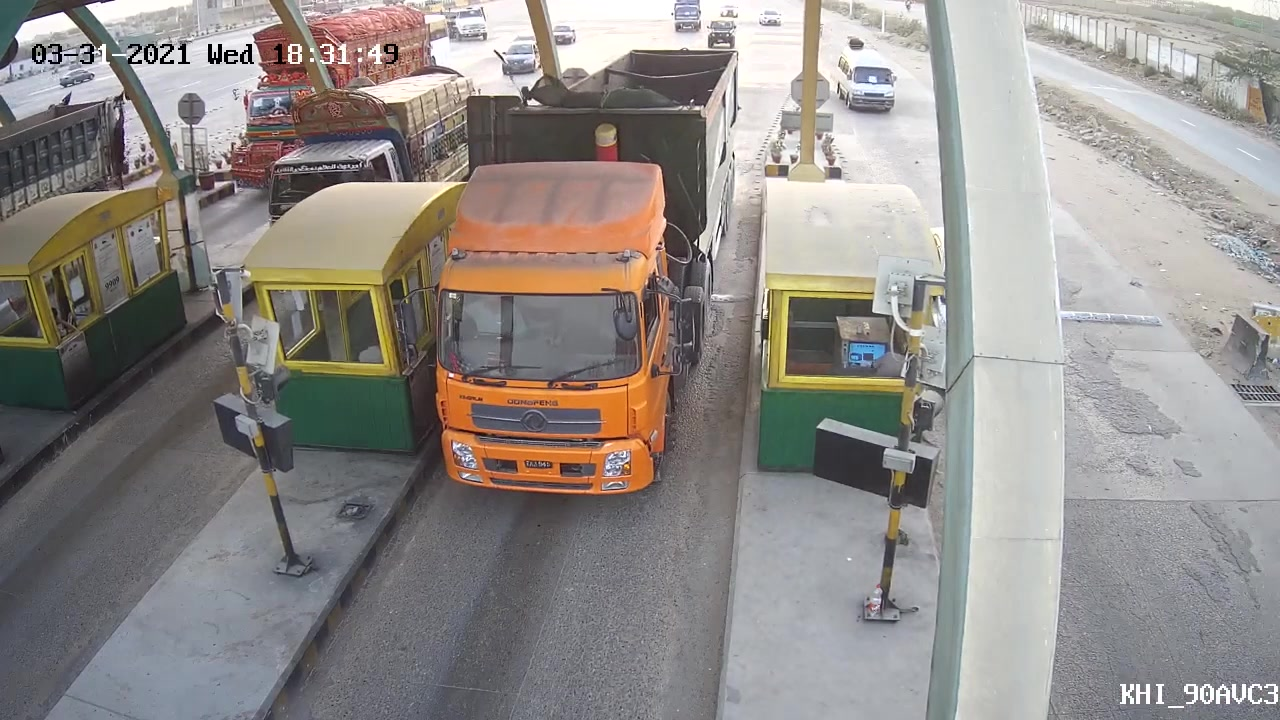F6: (422, 40, 748, 503)
